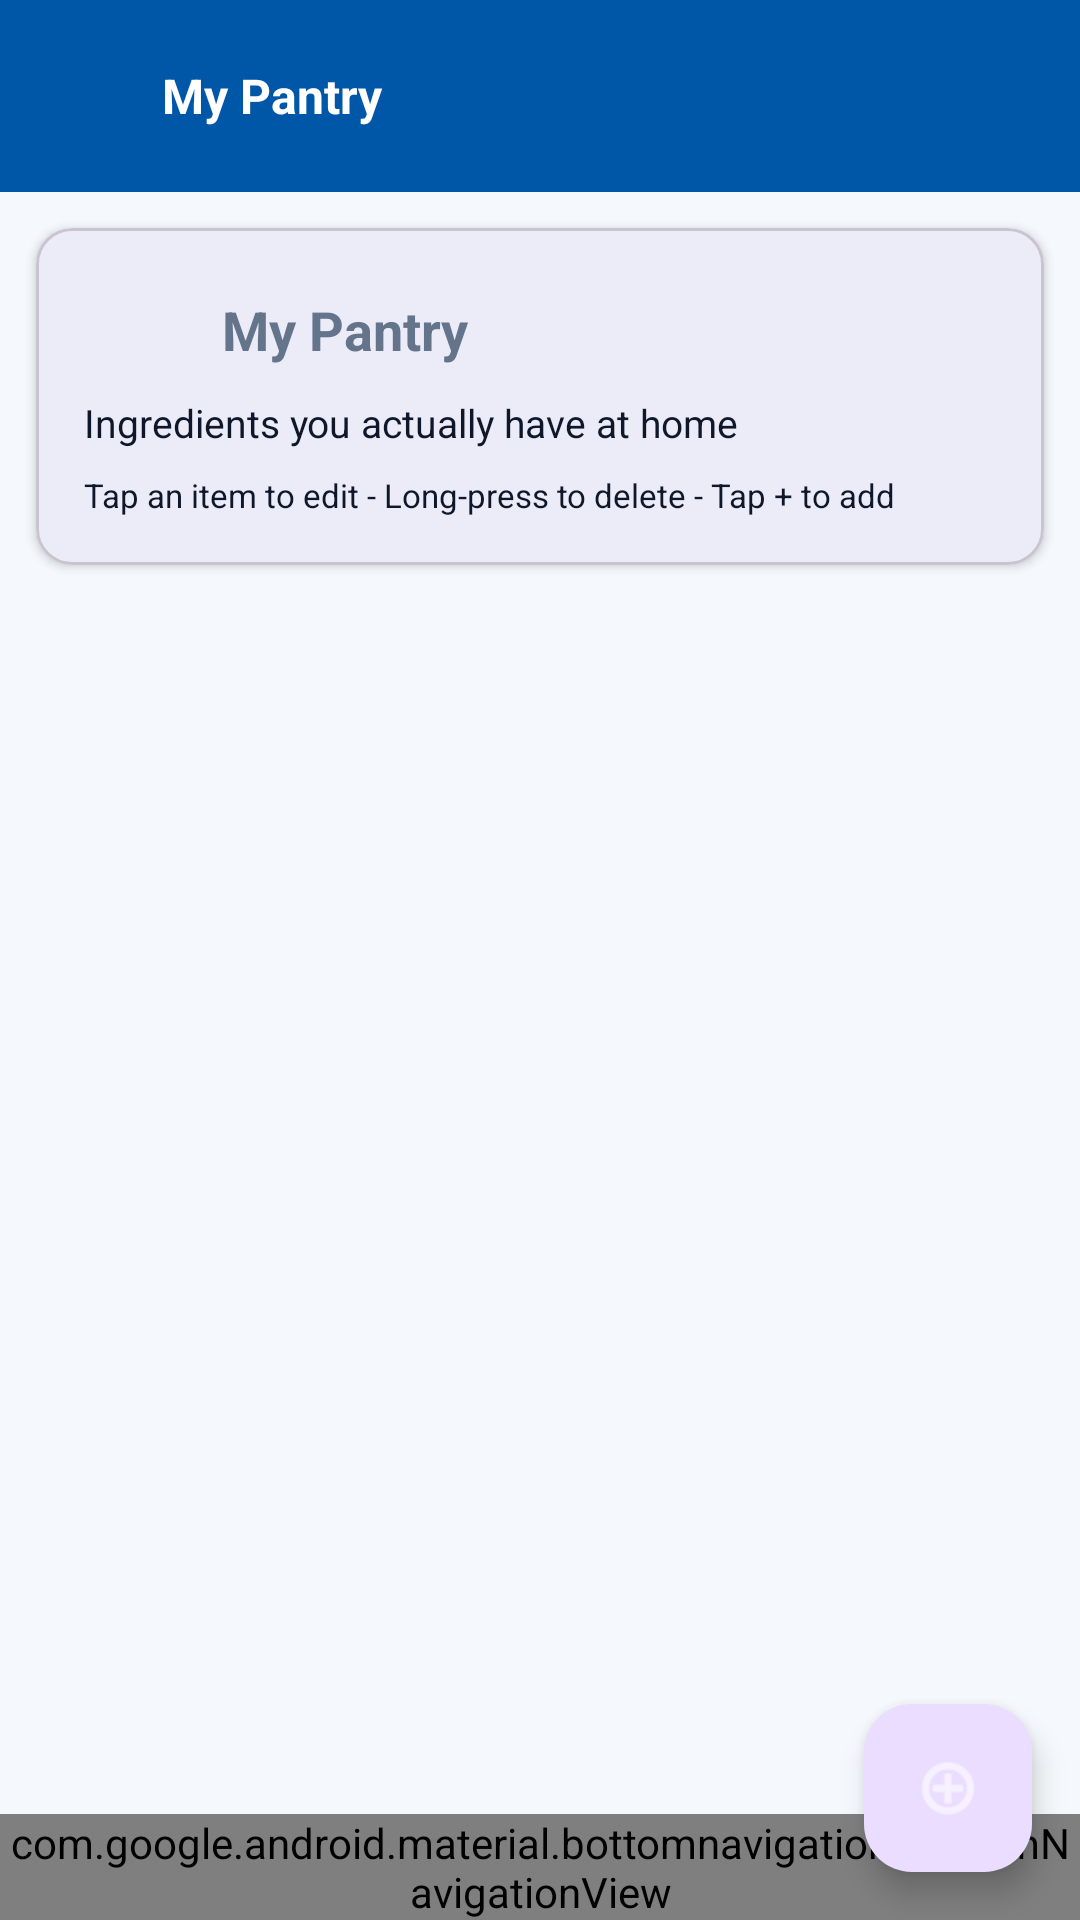

Where to tap for icons on this 1080px×1920px app screen, as point (x, y):
Add ingredient: point (948, 1788)
